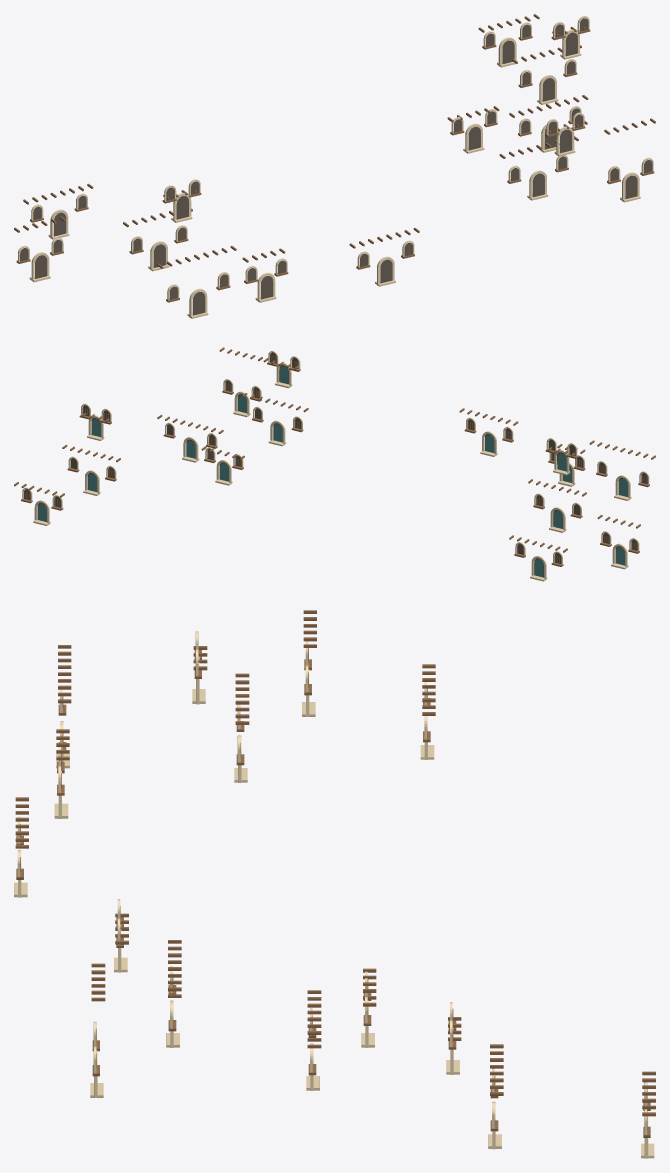
The model's file is SM_DoorsWindowsAndBeams.fbx.
3 views of the same model, one above another, from view 1: azimuth 30°, elevation 25°; view 2: azimuth 150°, elevation 25°; view 3: azimuth 270°, elevation 25° (orthographic). The views are drawn at different scales.
Visible parts, largest first — view 1: SM_DoorsWindowsAndBeams_Export; view 2: SM_DoorsWindowsAndBeams_Export; view 3: SM_DoorsWindowsAndBeams_Export.
Part boxes in pixels (x1,y1,x2,y2): SM_DoorsWindowsAndBeams_Export: (14,14,655,318); SM_DoorsWindowsAndBeams_Export: (14,347,655,581); SM_DoorsWindowsAndBeams_Export: (14,610,655,1158).
Size of the model in its own units: 6561 by 3789 by 1043.
